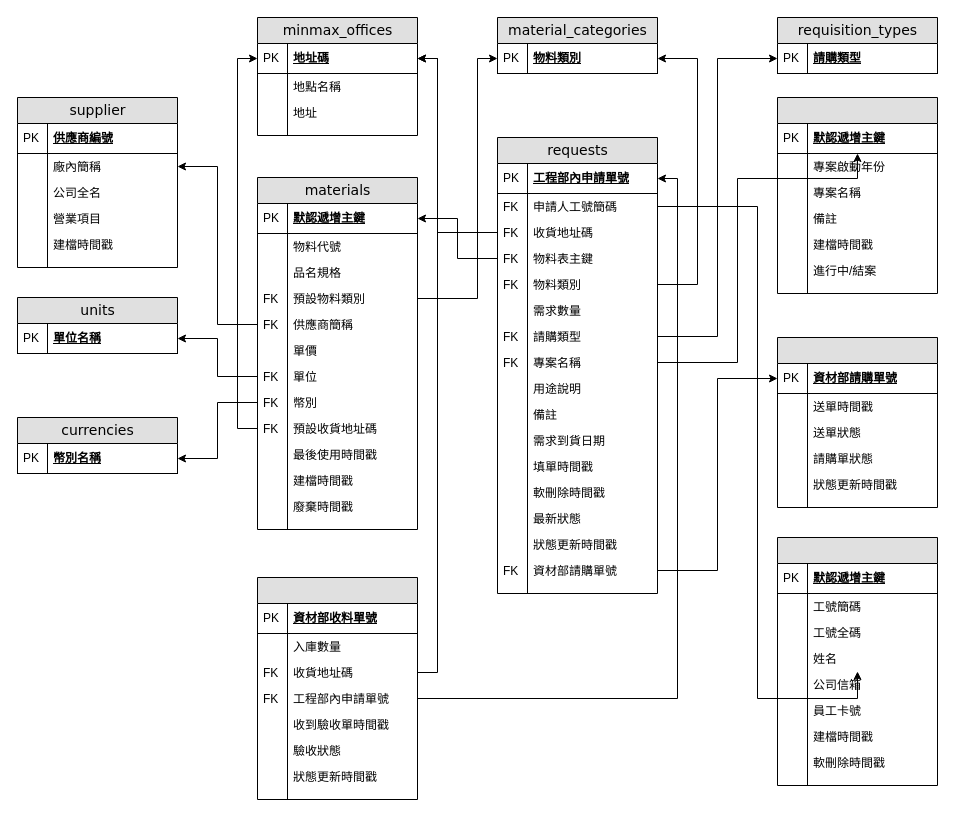
The diagram is 955 pixels wide and 817 high, and some of its shapes have lost their labels. The shapes that lost their labels are listed below. From the top down, each one's box as (x1, y1, x2, y2) in pixels, then its label:
(776, 96, 938, 294): ed_projects
(776, 336, 938, 508): purchase_requisitions
(776, 536, 938, 786): employees
(256, 576, 418, 800): acceptance_notes
